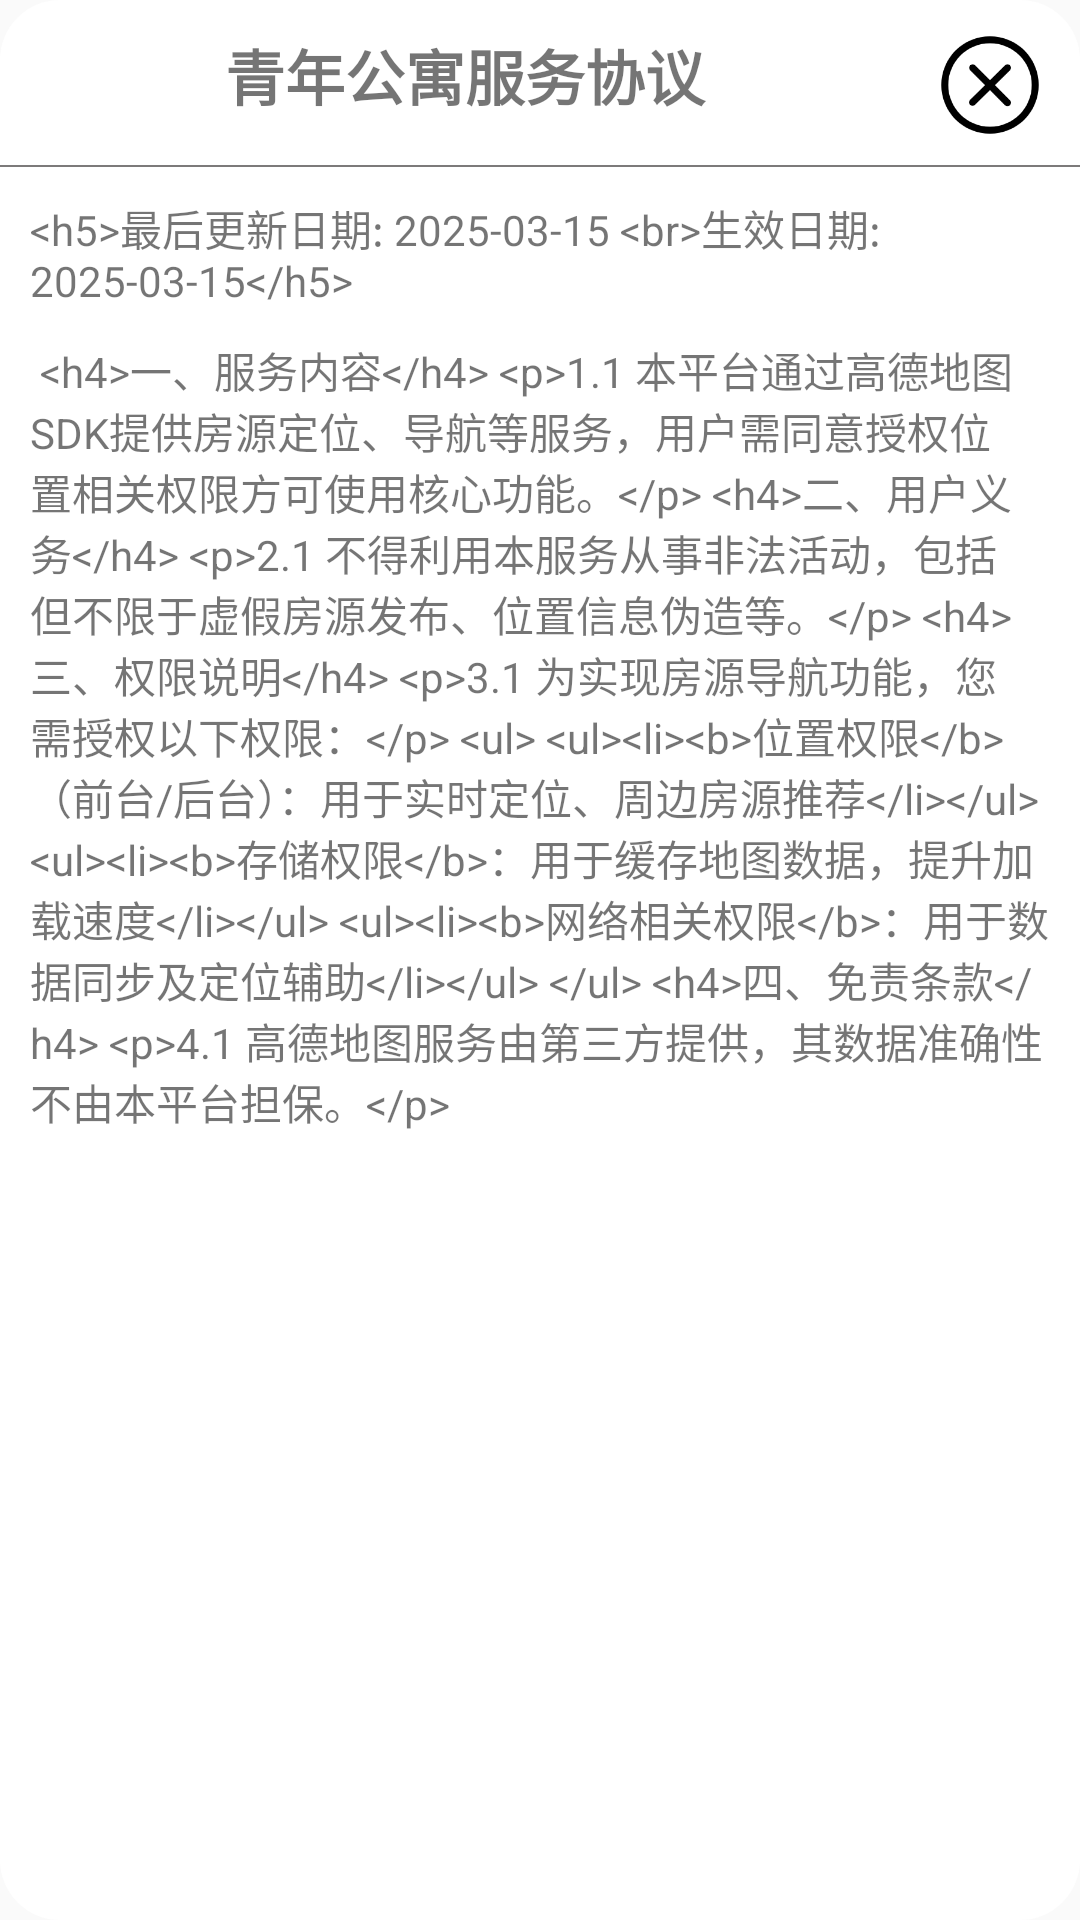

Icons on this 1080×1920 Android screen, each with the point to tap as point (x, y):
close: point (990, 85)
